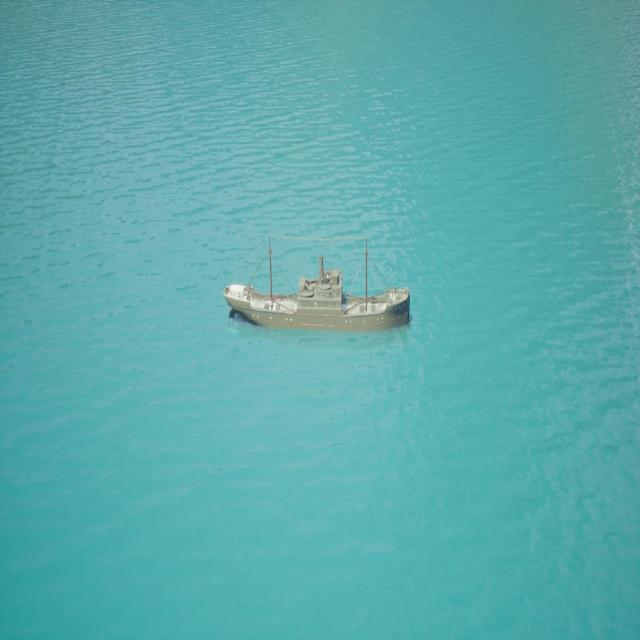fishing ship: (224, 242, 413, 335)
